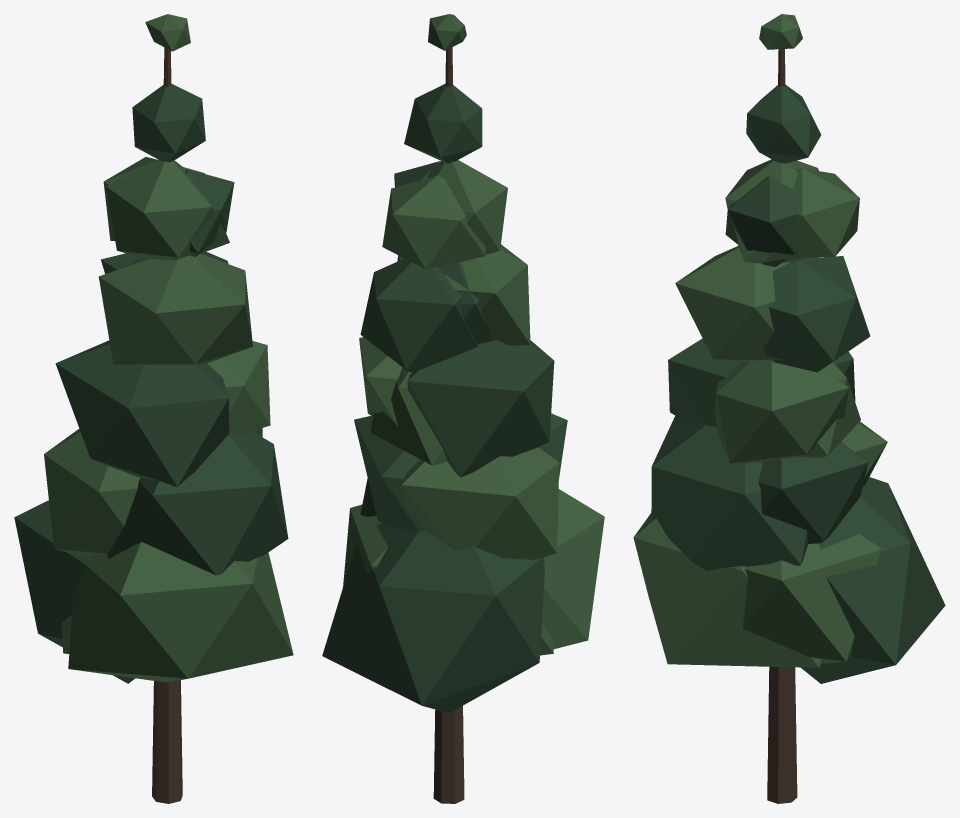
Rendered from sugi_1.glb.
3 renders of one model, left to right at view 1: azimuth 30°, elevation 25°; view 2: azimuth 150°, elevation 25°; view 3: azimuth 270°, elevation 25°, orthographic.
Parts seen in each view (by area): view 1: sugi_1; view 2: sugi_1; view 3: sugi_1.
Part boxes in pixels (left/top/right/bottom): sugi_1: left=14, top=14, right=293, bottom=803; sugi_1: left=322, top=14, right=604, bottom=803; sugi_1: left=633, top=14, right=945, bottom=803.
Size of the model in its own units: 7.17 by 24.58 by 8.88.
